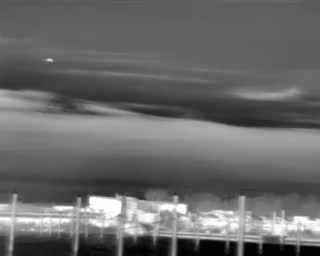BIRD: (42, 55, 56, 66)
